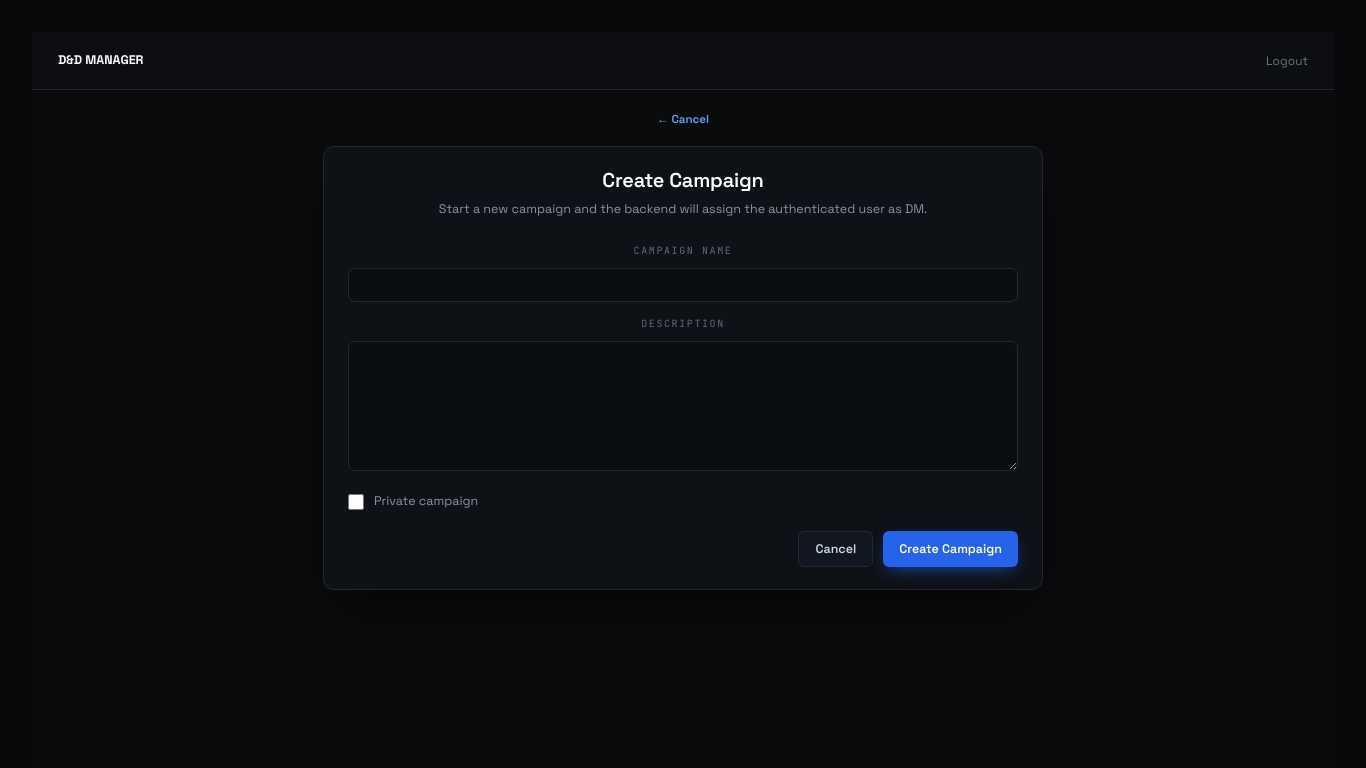
Test: CreateCampaign › preserves form data and shows feedback when creation fails
Type " Lost Mines " into the field labelled "Campaign Name".
click(683, 285); type(" Lost Mines ")  # box left=348, top=268, right=1018, bottom=302
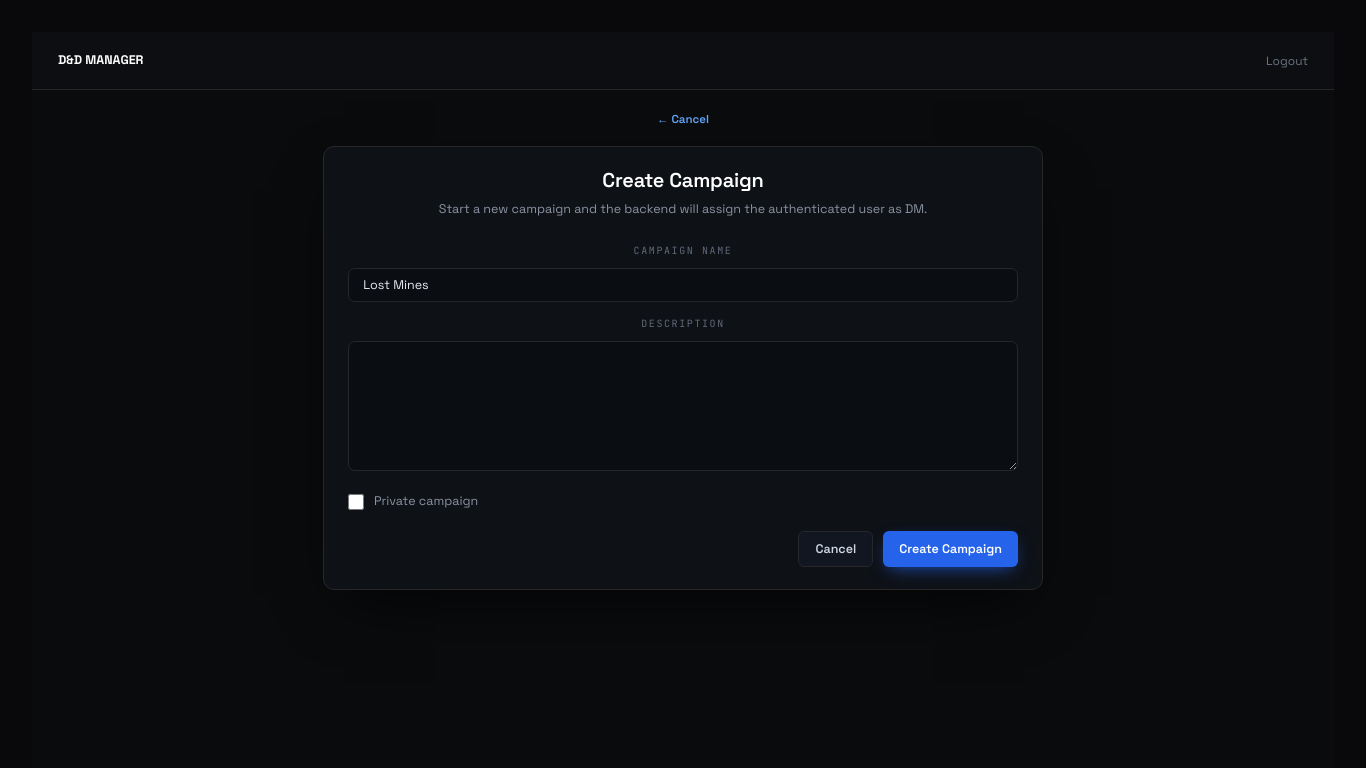
Type "Goblin ambushes everywhere" into the text box labelled "Description".
click(683, 406); type("Goblin ambushes everywhere")  # box left=348, top=341, right=1018, bottom=471
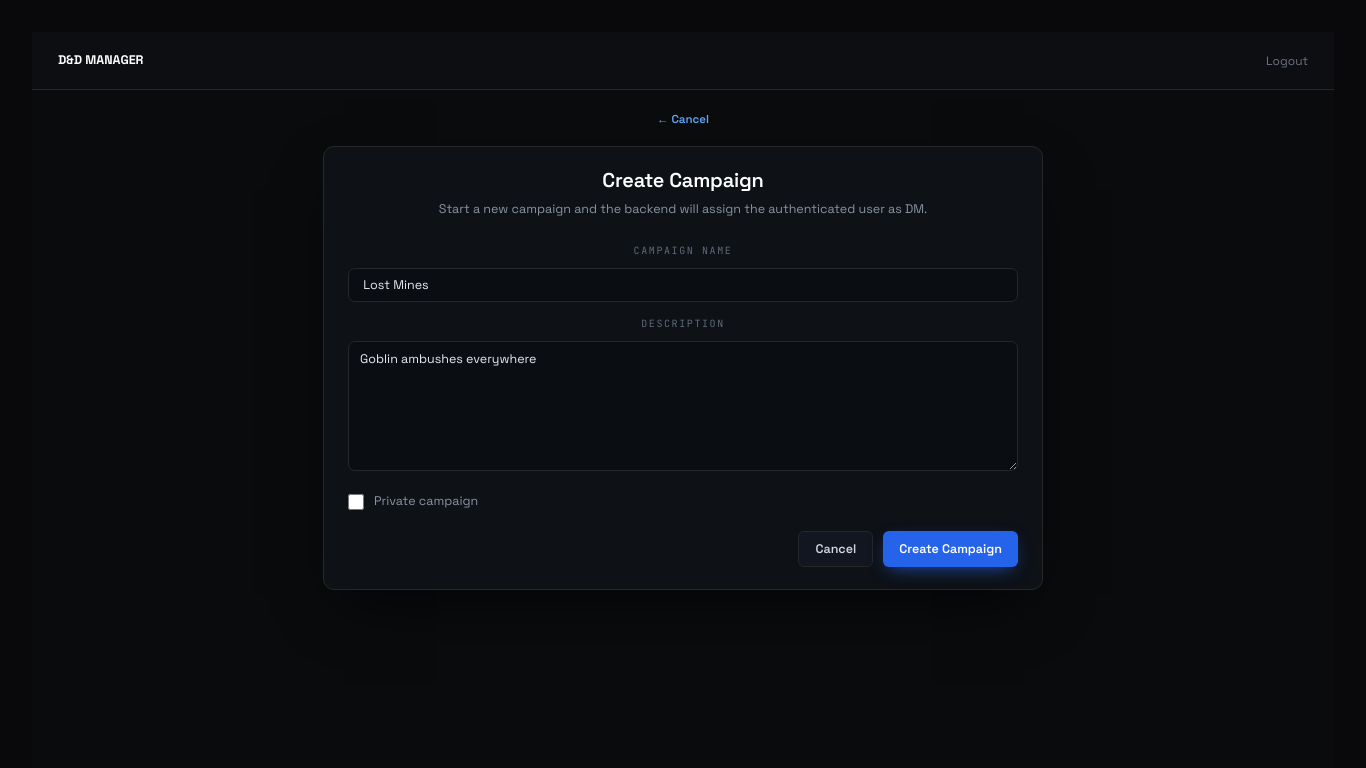
Click the checkbox labelled "Private campaign".
click(356, 502)  # box left=348, top=494, right=364, bottom=510
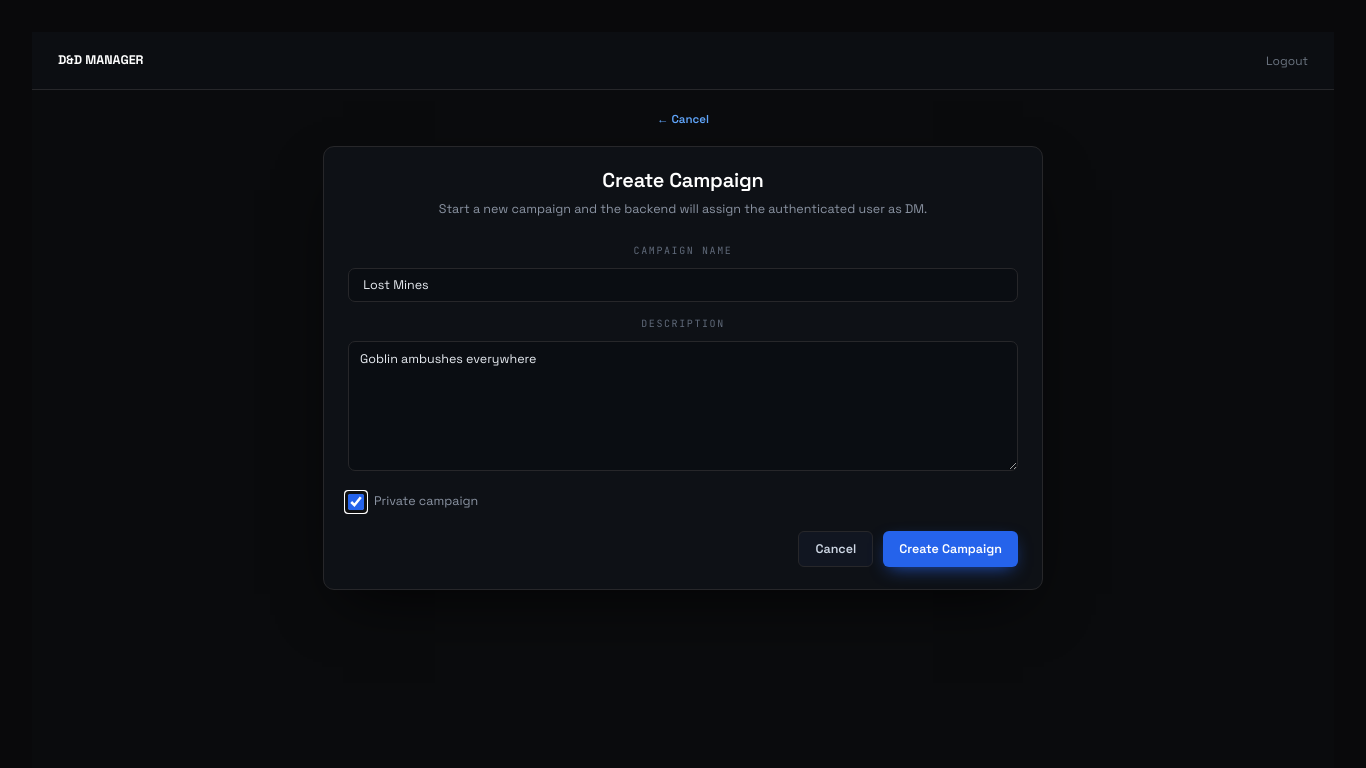
Click the button "Create Campaign".
click(951, 549)  # box left=883, top=531, right=1018, bottom=567
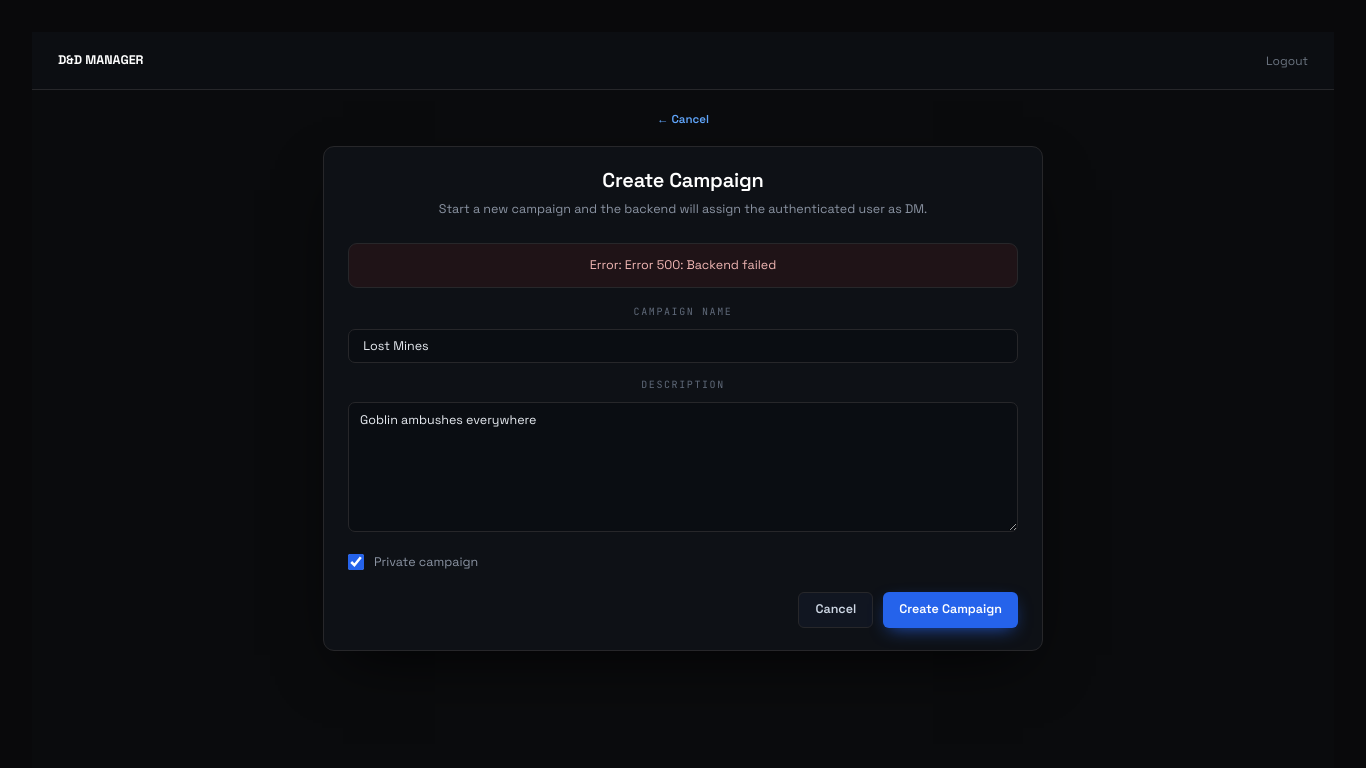
Now the checkbox labelled "Private campaign" is checked, box left=348, top=554, right=364, bottom=570
Now the text "Error: Error 500: Backend failed" is shown, box left=348, top=243, right=1018, bottom=288
